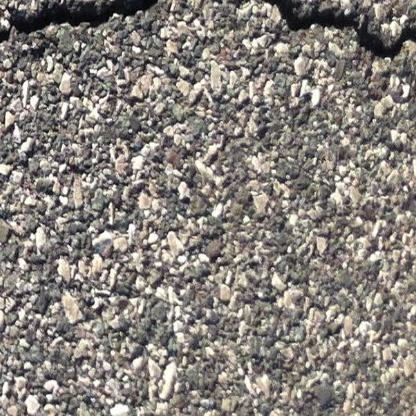Cracks: (241, 0, 416, 63), (0, 0, 182, 53)
